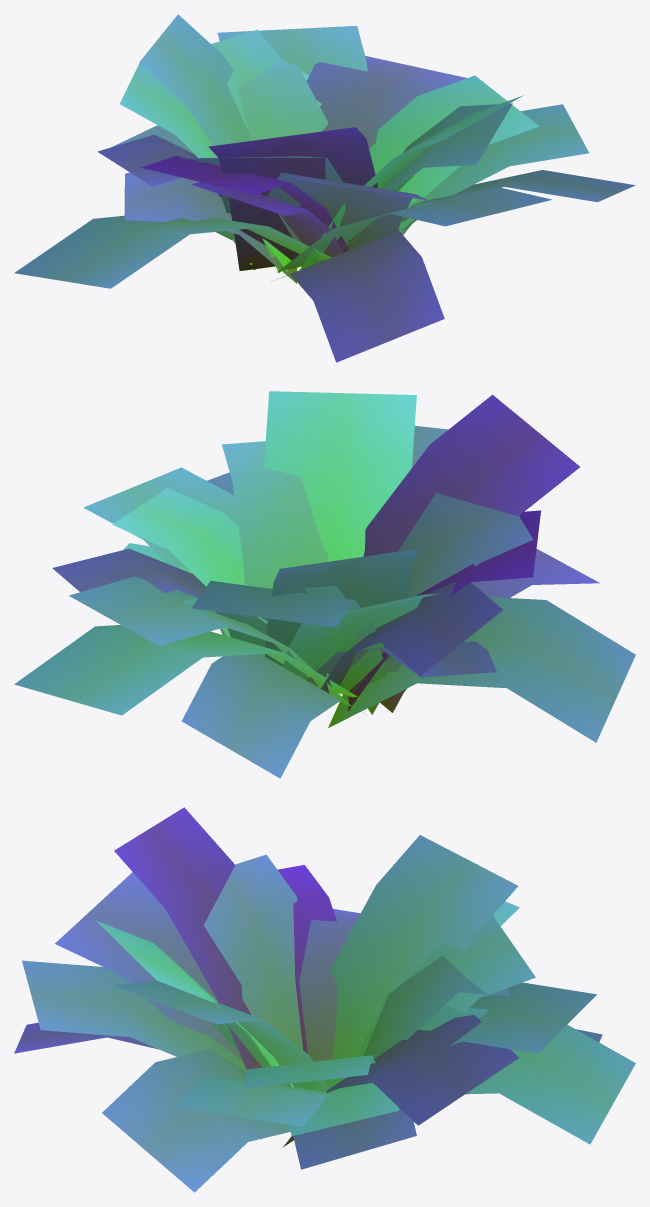
Rendered from fern_clump.glb.
3 views of the same model, one above another, from view 1: azimuth 30°, elevation 25°; view 2: azimuth 150°, elevation 25°; view 3: azimuth 270°, elevation 25° (orthographic). The views are drawn at different scales.
Visible parts, largest first — view 1: fern_clump_fronds; view 2: fern_clump_fronds; view 3: fern_clump_fronds.
Part boxes in pixels (left/top/right/bottom): fern_clump_fronds: left=14, top=14, right=635, bottom=362; fern_clump_fronds: left=14, top=391, right=635, bottom=778; fern_clump_fronds: left=14, top=807, right=635, bottom=1192.
Size of the model in its own units: 1.24 by 0.504 by 1.16.
